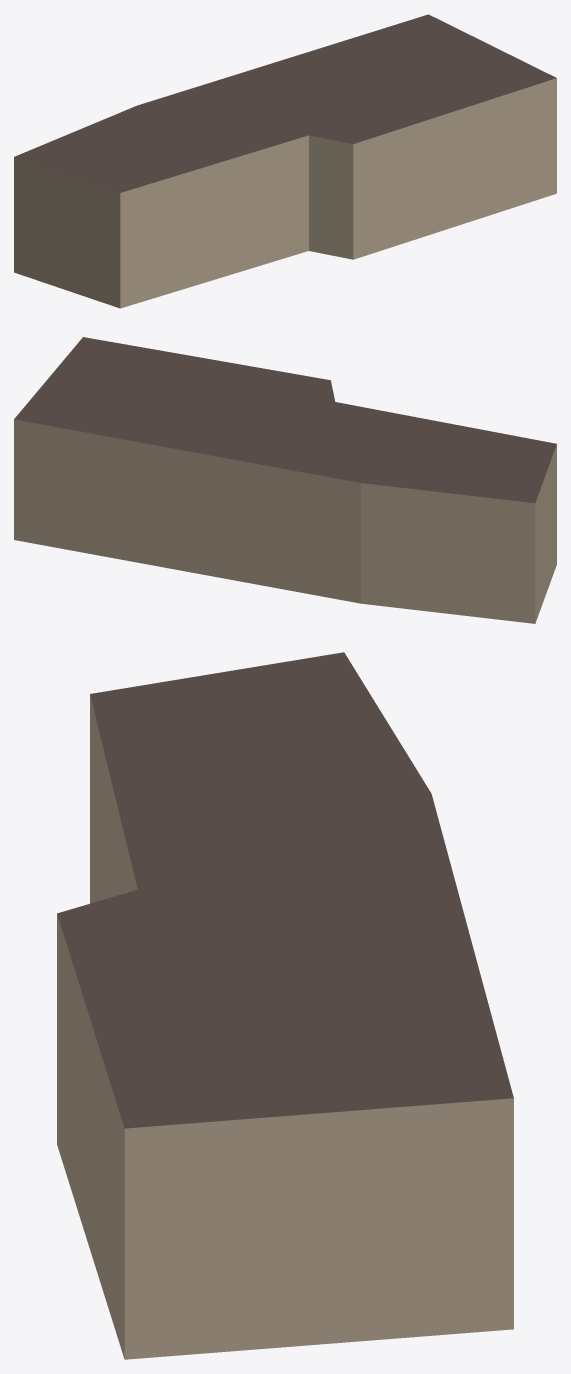
3 renders of one model, top to bottom at view 1: azimuth 30°, elevation 25°; view 2: azimuth 150°, elevation 25°; view 3: azimuth 270°, elevation 25°, orthographic. The views are drawn at different scales.
Visible parts, largest first — view 1: HP-w734421240; view 2: HP-w734421240; view 3: HP-w734421240.
Boxes of the visible parts, left/top/right/bottom form: HP-w734421240: left=14, top=14, right=556, bottom=308; HP-w734421240: left=14, top=337, right=556, bottom=623; HP-w734421240: left=57, top=652, right=513, bottom=1359.
Bounding box in the file's own units: 39.77 × 9 × 16.12.
